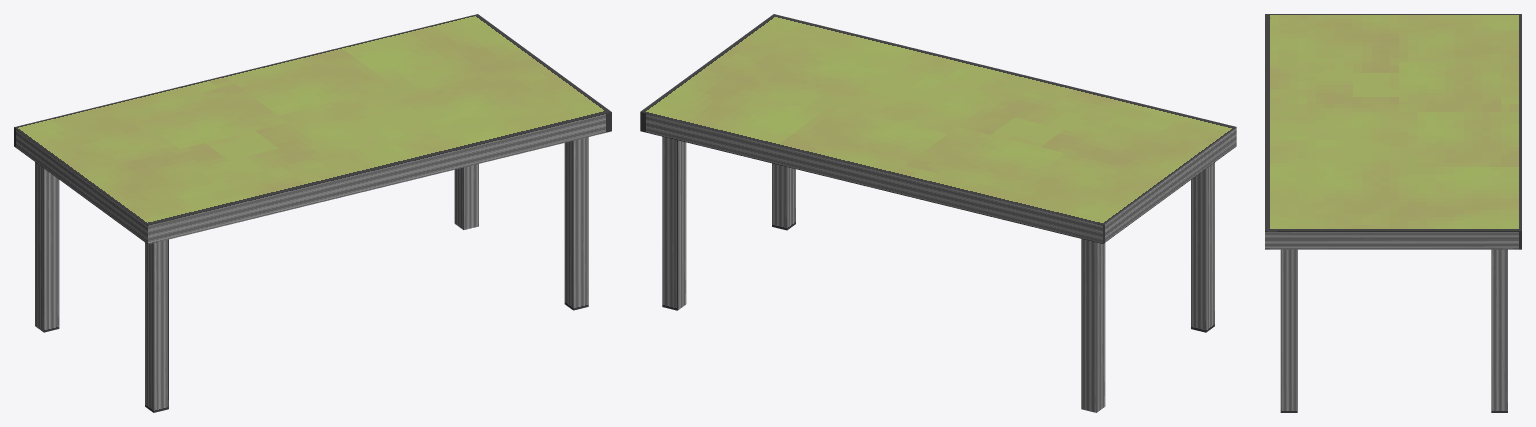
The model's file is Table.fbx.
3 views of the same model, side by side, from view 1: azimuth 30°, elevation 25°; view 2: azimuth 150°, elevation 25°; view 3: azimuth 270°, elevation 25° (orthographic). The views are drawn at different scales.
Visible parts, largest first — view 1: Cube; view 2: Cube; view 3: Cube.
Part boxes in pixels (left/top/right/bottom): Cube: left=14, top=14, right=611, bottom=412; Cube: left=640, top=14, right=1236, bottom=412; Cube: left=1265, top=14, right=1521, bottom=412.
Bounding box in the file's own units: 8 × 4 × 3.25.
